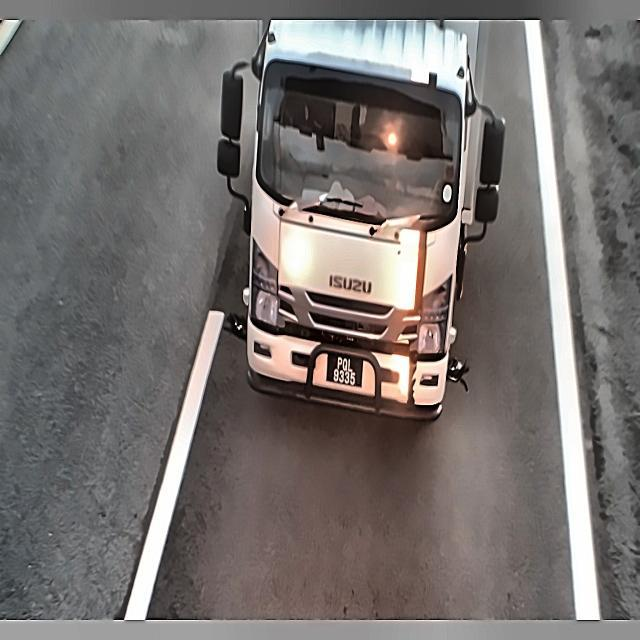car: (320, 345, 366, 390)
